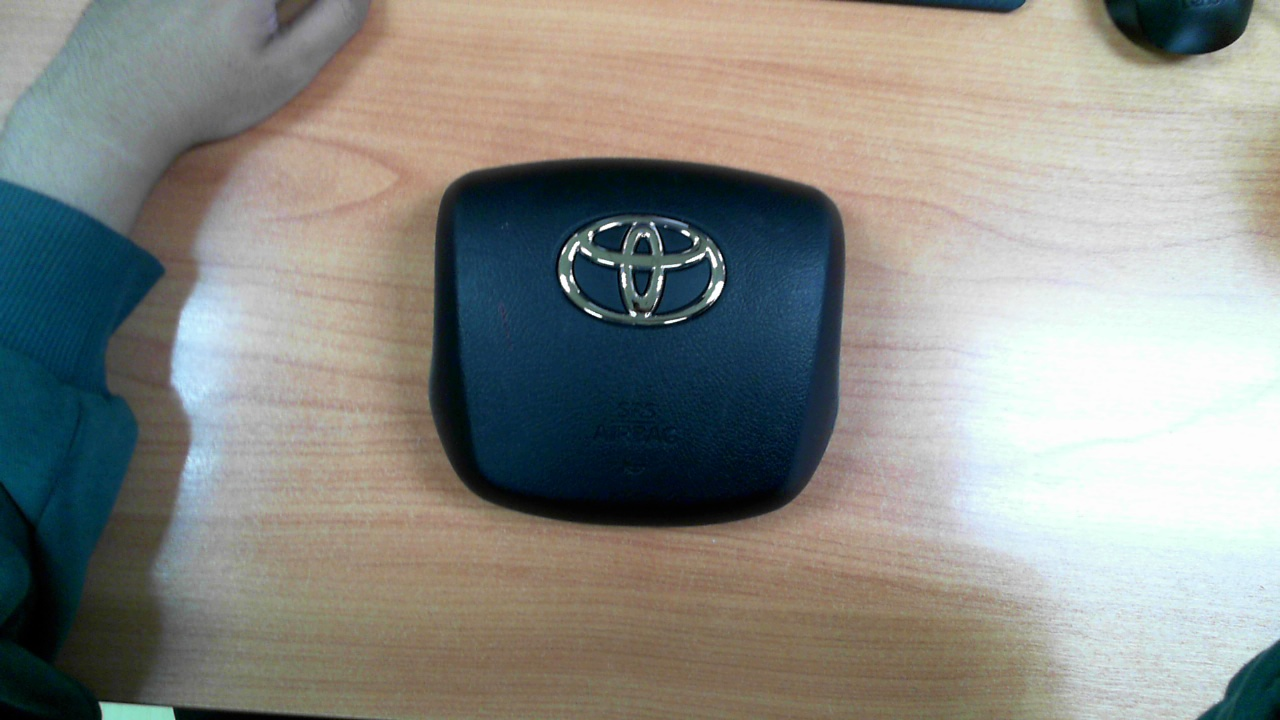Airbag: (426, 157, 847, 529)
Toyota: (557, 214, 726, 326)
